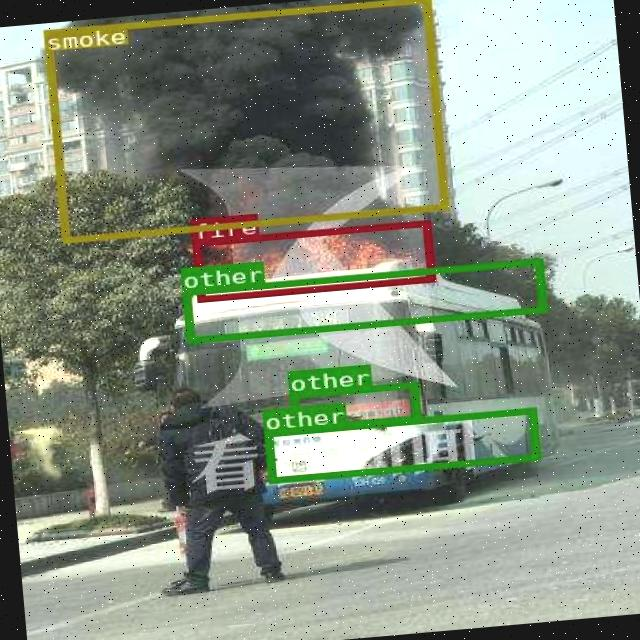fire: (192, 218, 434, 300)
smoke: (42, 0, 447, 241)
